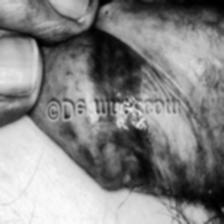Toxin: (113, 119, 158, 188), (102, 41, 144, 99)
